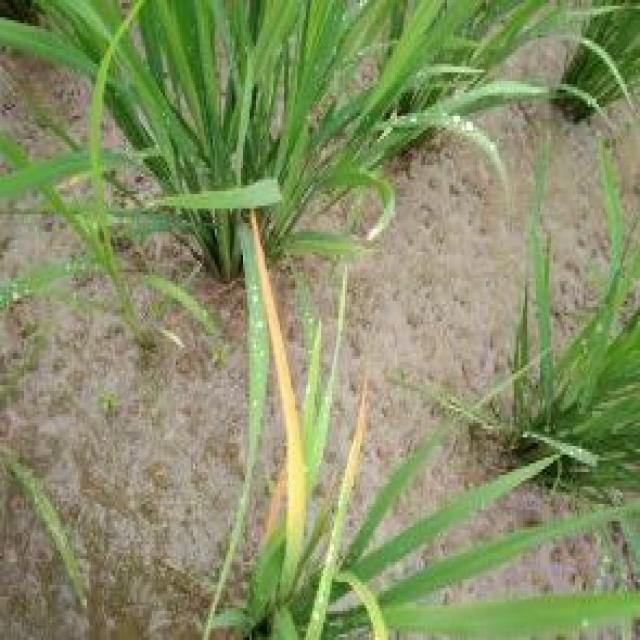Tungro: (245, 213, 372, 610)
